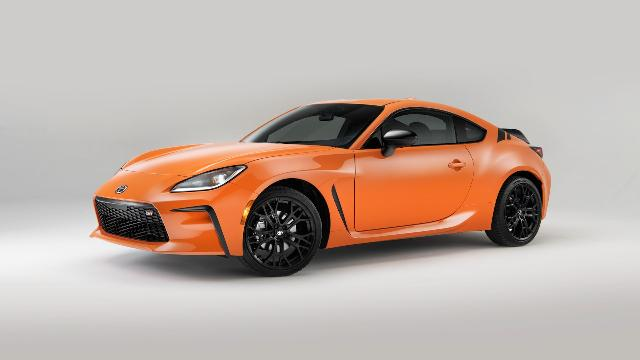toyota: (90, 96, 552, 276)
